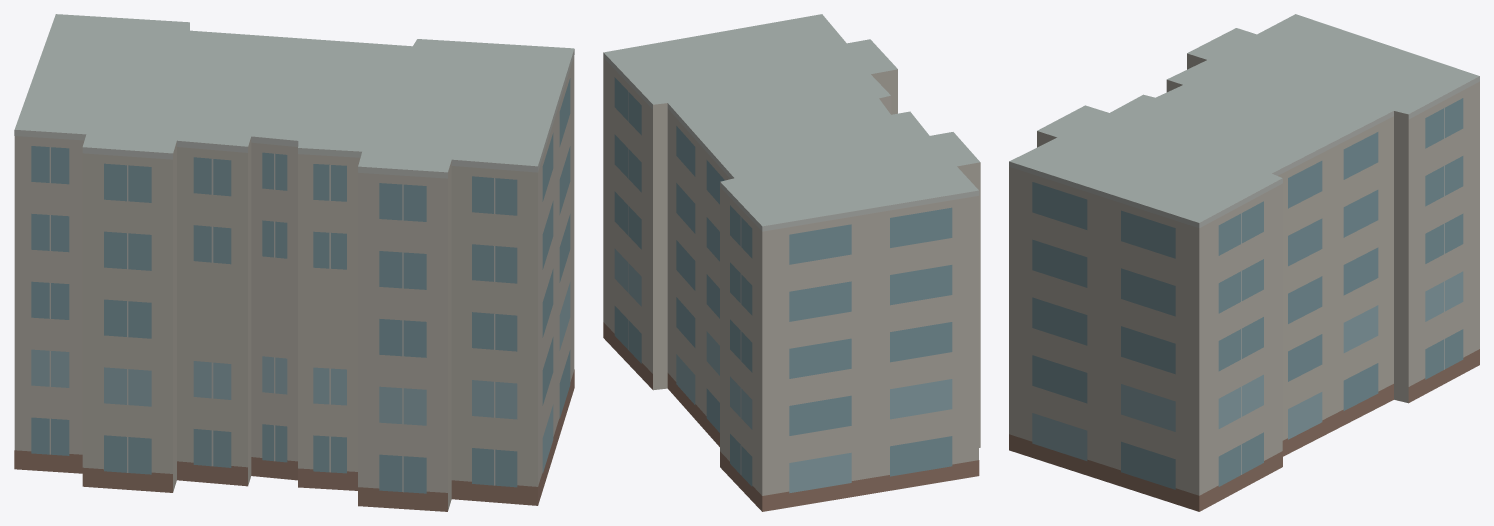
File: survey-upis-32673756.glb
The picture shows the model from 3 angles, left to right: view 1: azimuth 30°, elevation 25°; view 2: azimuth 150°, elevation 25°; view 3: azimuth 270°, elevation 25°; orthographic projection. The views are drawn at different scales.
Parts seen in each view (by area): view 1: survey-upis-32673756.tmp; view 2: survey-upis-32673756.tmp; view 3: survey-upis-32673756.tmp.
Boxes of the visible parts, box(x1,y1,x2,y2) form: survey-upis-32673756.tmp: box(14, 14, 574, 511); survey-upis-32673756.tmp: box(603, 14, 980, 511); survey-upis-32673756.tmp: box(1009, 14, 1479, 511).
Size of the model in its own units: 20.65 by 13.3 by 19.65.
